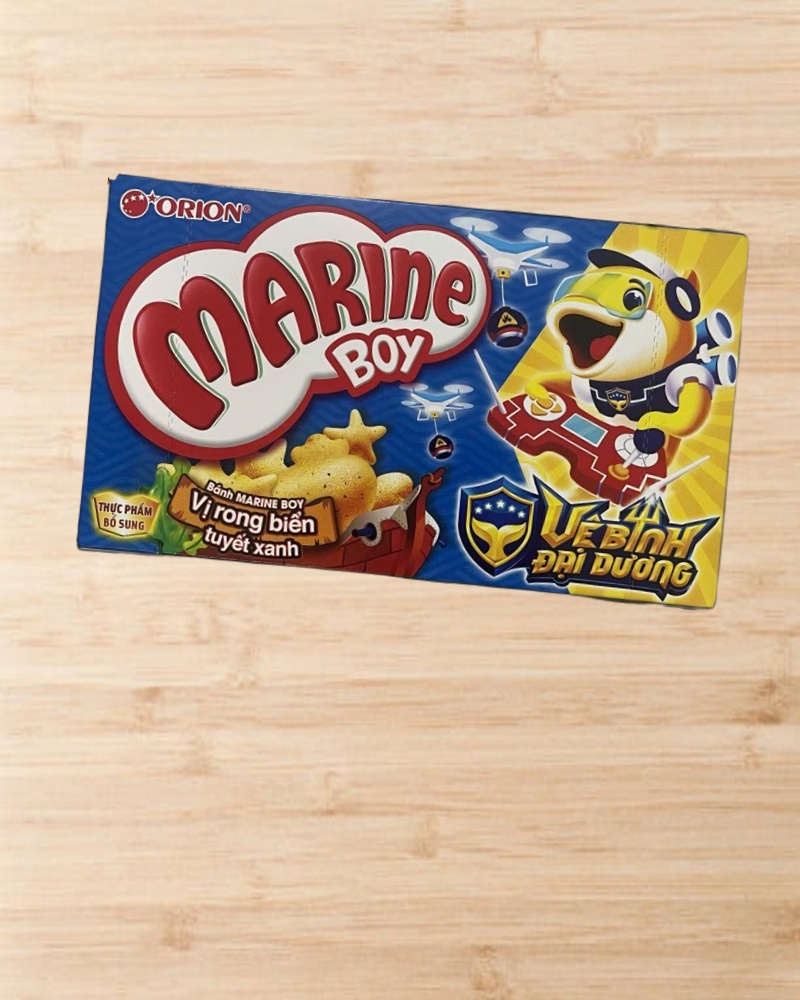Marine: (78, 174, 752, 611)
